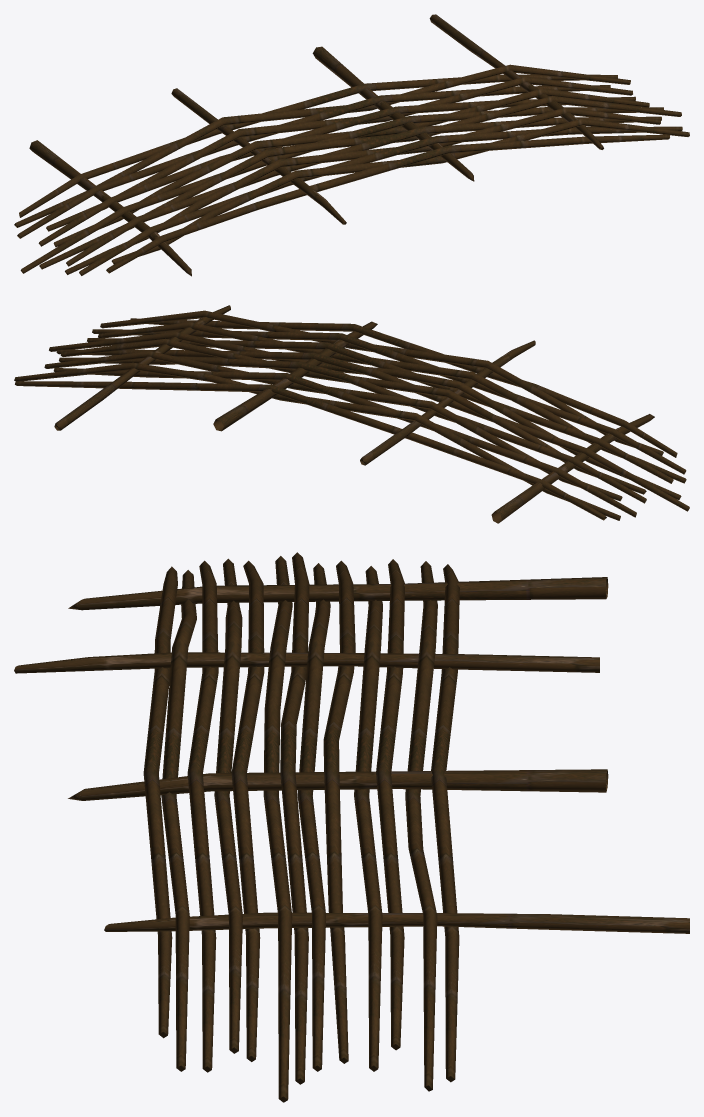
3 renders of one model, top to bottom at view 1: azimuth 30°, elevation 25°; view 2: azimuth 150°, elevation 25°; view 3: azimuth 270°, elevation 25°, orthographic. The views are drawn at different scales.
Visible parts, largest first — view 1: test_01; view 2: test_01; view 3: test_01.
Boxes of the visible parts, box(x1,y1,x2,y2) form: test_01: box(14, 14, 689, 276); test_01: box(14, 305, 689, 523); test_01: box(14, 552, 689, 1102).
Bounding box in the file's own units: 4.59 × 0.4722 × 2.42.
